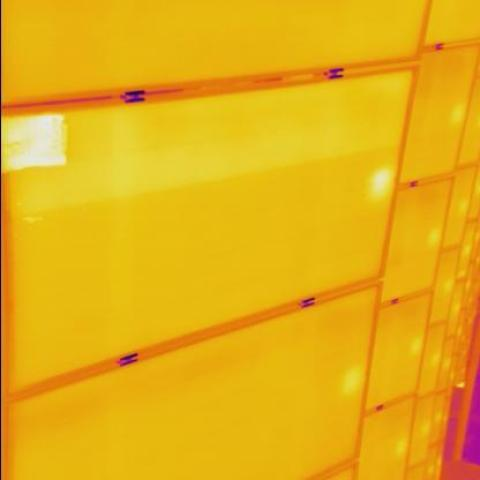fault: (5, 119, 63, 160), (338, 368, 361, 398), (370, 170, 392, 191)
